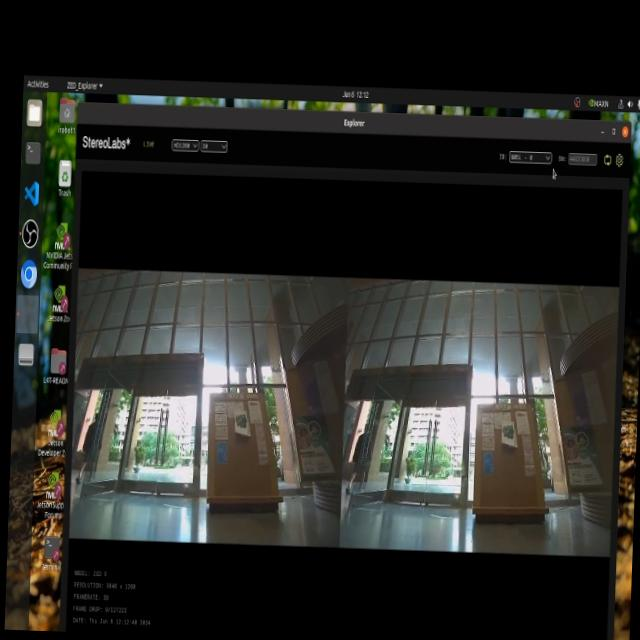green: (500, 419, 516, 451), (232, 410, 246, 438)
